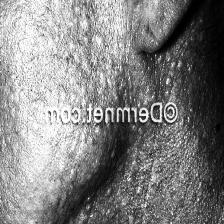Unclassified: (66, 131, 94, 160), (92, 27, 108, 51)
